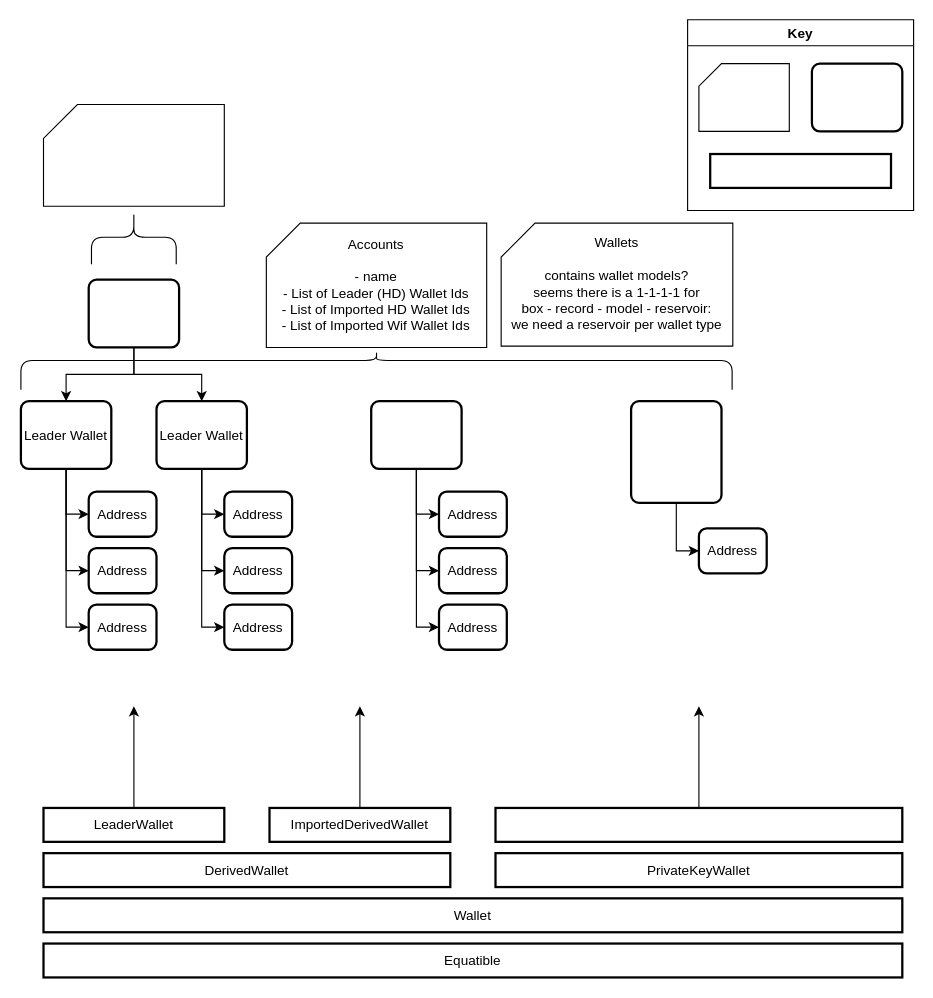
This 933x998 diagram has some shape labels left out. The shapes that lost their labels are listed below. From the top down, each one's box as (x1, y1, x2, y2) in pixels, then its label:
(698, 62, 789, 131): Reservoir
(810, 62, 903, 132): Model & Record
(42, 103, 224, 206): Master Seeds - List Master Seeds - (primary is last) - (others are backup)
(709, 152, 892, 188): Class
(87, 278, 180, 348): Master Seed
(370, 399, 462, 470): Imported HDWallet
(629, 399, 722, 503): Imported wif Wallet Private key Public key
(494, 806, 903, 842): ImportedPrivateKeyWallet
